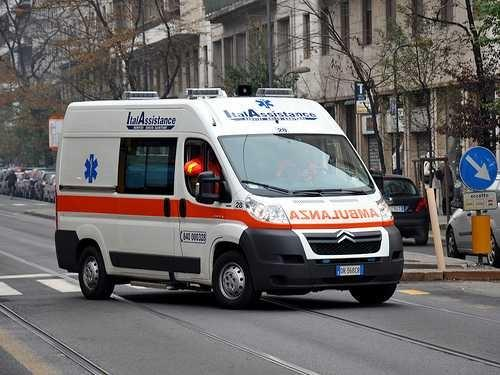car: (52, 85, 404, 308)
